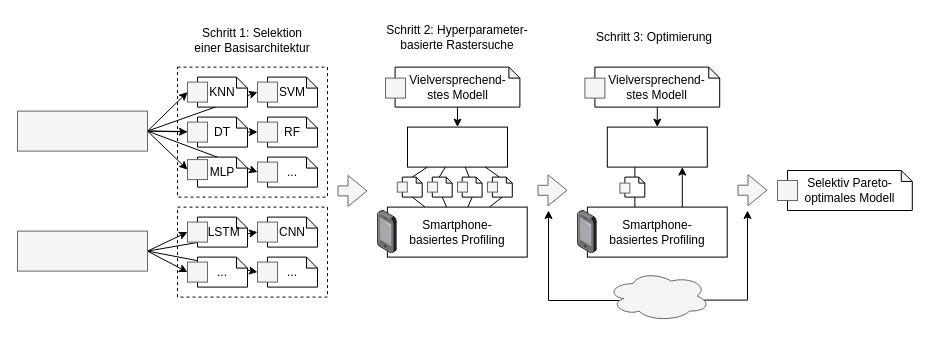
Some shapes in this 930 by 339 pixel diagram are drawn without their labels. Here are the shapes that lost their labels. From the top down, the centre of each, then its label:
the point at 82,130: Vorverarbeitung Traditionelle Modelle
the point at 457,146: Variation Hyperparameter
the point at 656,146: Selektion einer Optimierung
the point at 82,250: Vorverarbeitung Deep-Learning-Modelle
the point at 658,295: Tradeoff- Analyse
